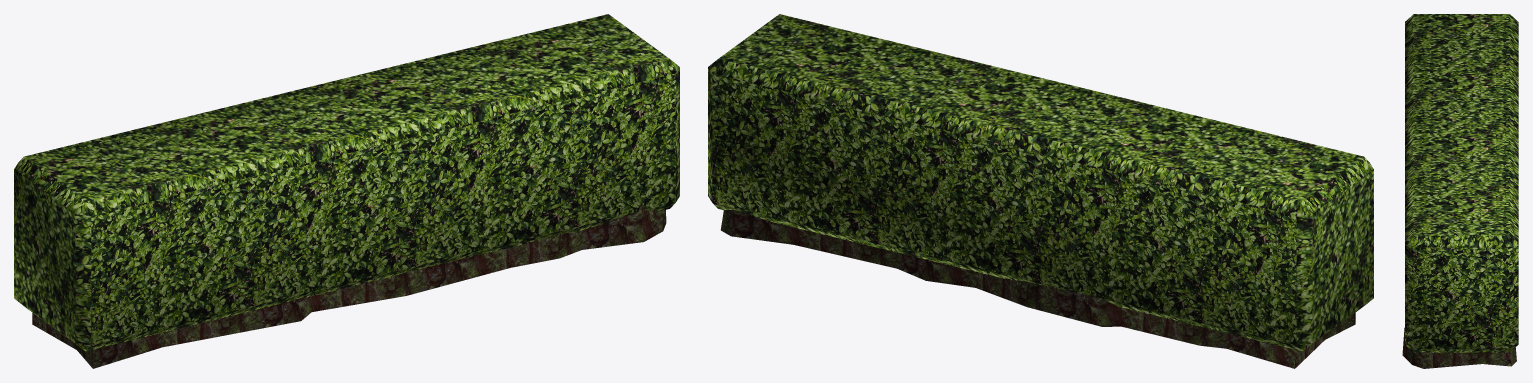
Rendered from HedgeShort.FBX.
The picture shows the model from 3 angles, left to right: view 1: azimuth 30°, elevation 25°; view 2: azimuth 150°, elevation 25°; view 3: azimuth 270°, elevation 25°; orthographic projection. The views are drawn at different scales.
Visible parts, largest first — view 1: Hedge; view 2: Hedge; view 3: Hedge.
Boxes of the visible parts, x1=… form: Hedge: x1=14, y1=14, x2=679, y2=368; Hedge: x1=708, y1=14, x2=1373, y2=368; Hedge: x1=1402, y1=14, x2=1518, y2=368.
Size of the model in its own units: 521 by 111 by 140.
